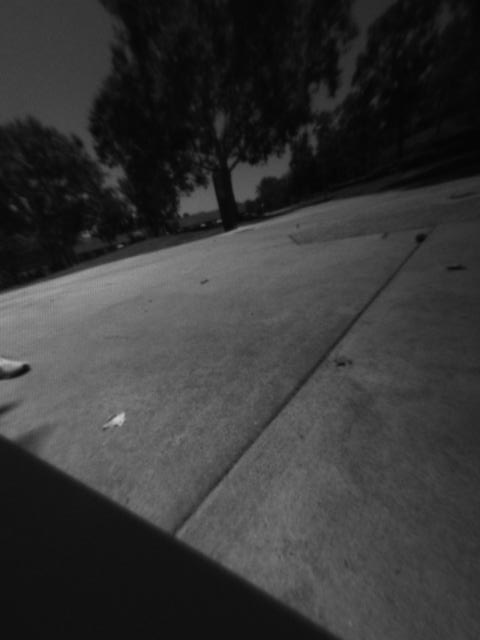dogtoy: (404, 222, 437, 250)
